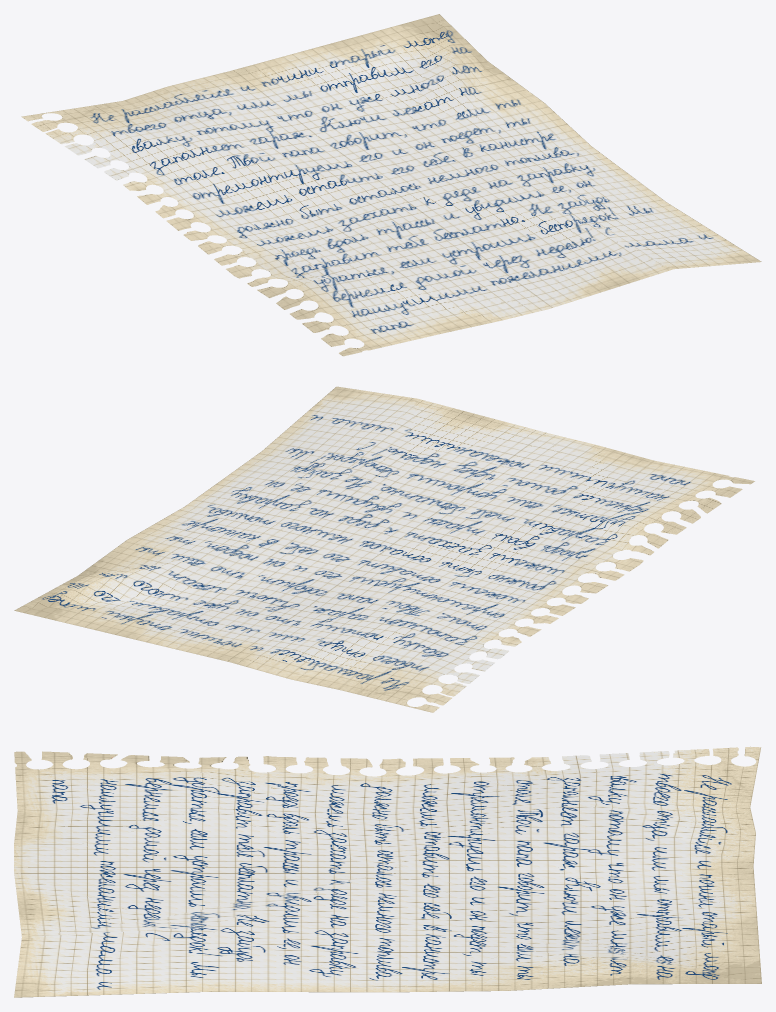
File: Paper.fbx
3 renders of one model, top to bottom at view 1: azimuth 30°, elevation 25°; view 2: azimuth 150°, elevation 25°; view 3: azimuth 270°, elevation 25°, orthographic. The views are drawn at different scales.
Parts seen in each view (by area): view 1: Plane.002; view 2: Plane.002; view 3: Plane.002.
Boxes of the visible parts, x1,y1,x2,y2 form: Plane.002: (21, 14, 761, 356); Plane.002: (14, 386, 754, 712); Plane.002: (14, 746, 761, 997).
Size of the model in its own units: 14.25 by 0.4452 by 18.71.
1 material, 1 textured.
